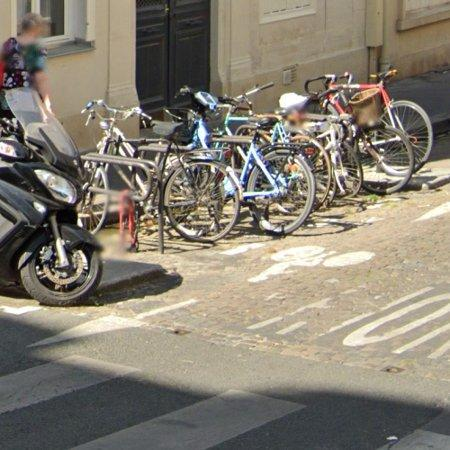motorcycles: (0, 88, 103, 306)
